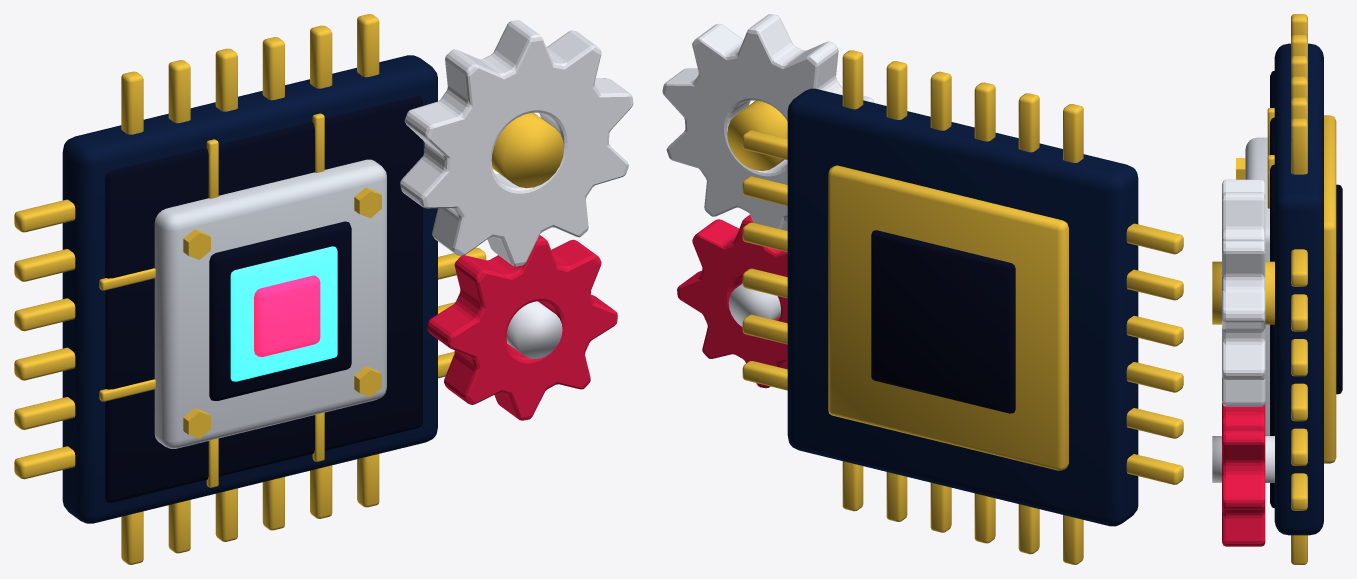
File: screen-stack.glb
The picture shows the model from 3 angles, left to right: view 1: azimuth 30°, elevation 25°; view 2: azimuth 150°, elevation 25°; view 3: azimuth 270°, elevation 25°; orthographic projection. The views are drawn at different scales.
Visible parts, largest first — view 1: ChipGoldBorder, ChipPCB, StackGearMain, ChipIHS, StackGearSub, ChipCoreBay, ChipCyanFrame, ChipSiliconDie, StackGearMainHub, StackGearSubHub, ChipPinT_4, ChipPinT_0 (+16 smaller); view 2: ChipPCB, ChipBackPlate, ChipBackCore, StackGearMain, StackGearSub, StackGearMainHub, StackGearSubHub, ChipPinT_2, ChipPinT_1, ChipPinT_5, ChipPinT_3, ChipPinT_4 (+19 smaller); view 3: ChipPCB, StackGearMain, StackGearSub, ChipBackPlate, ChipIHS, ChipGoldBorder, ChipBackCore, StackGearMainHub, ChipPinT_5, StackGearSubHub, ChipPinR_2, ChipPinR_1 (+13 smaller).
Part boxes in pixels (x1,y1,x2,y2): ChipGoldBorder: [105, 96, 422, 502]; ChipPCB: [62, 55, 437, 523]; StackGearMain: [400, 20, 633, 266]; ChipIHS: [154, 159, 386, 448]; StackGearSub: [427, 235, 617, 420]; ChipCoreBay: [209, 221, 351, 400]; ChipCyanFrame: [230, 246, 337, 381]; ChipSiliconDie: [254, 275, 320, 356]; StackGearMainHub: [491, 112, 563, 188]; StackGearSubHub: [506, 301, 562, 359]; ChipPinT_4: [310, 25, 332, 88]; ChipPinT_0: [121, 71, 143, 134]; ChipPCB: [787, 88, 1138, 526]; ChipBackPlate: [828, 165, 1068, 470]; ChipBackCore: [871, 230, 1015, 413]; StackGearMain: [662, 14, 874, 230]; StackGearSub: [677, 215, 787, 388]; StackGearMainHub: [727, 100, 787, 170]; StackGearSubHub: [728, 283, 780, 326]; ChipPinT_2: [974, 82, 995, 141]; ChipPinT_1: [1018, 93, 1039, 152]; ChipPinT_5: [842, 50, 863, 109]; ChipPinT_3: [930, 71, 951, 130]; ChipPinT_4: [886, 61, 907, 119]; ChipPCB: [1274, 43, 1323, 535]; StackGearMain: [1222, 179, 1265, 406]; StackGearSub: [1222, 402, 1265, 546]; ChipBackPlate: [1324, 115, 1336, 463]; ChipIHS: [1245, 137, 1269, 435]; ChipGoldBorder: [1270, 71, 1274, 507]; ChipBackCore: [1336, 184, 1342, 394]; StackGearMainHub: [1212, 261, 1274, 324]; ChipPinT_5: [1291, 118, 1307, 174]; StackGearSubHub: [1212, 436, 1274, 482]; ChipPinR_2: [1291, 383, 1307, 421]; ChipPinR_1: [1291, 428, 1307, 465].
Size of the model in its own units: 1.95 by 1.58 by 0.4215.
